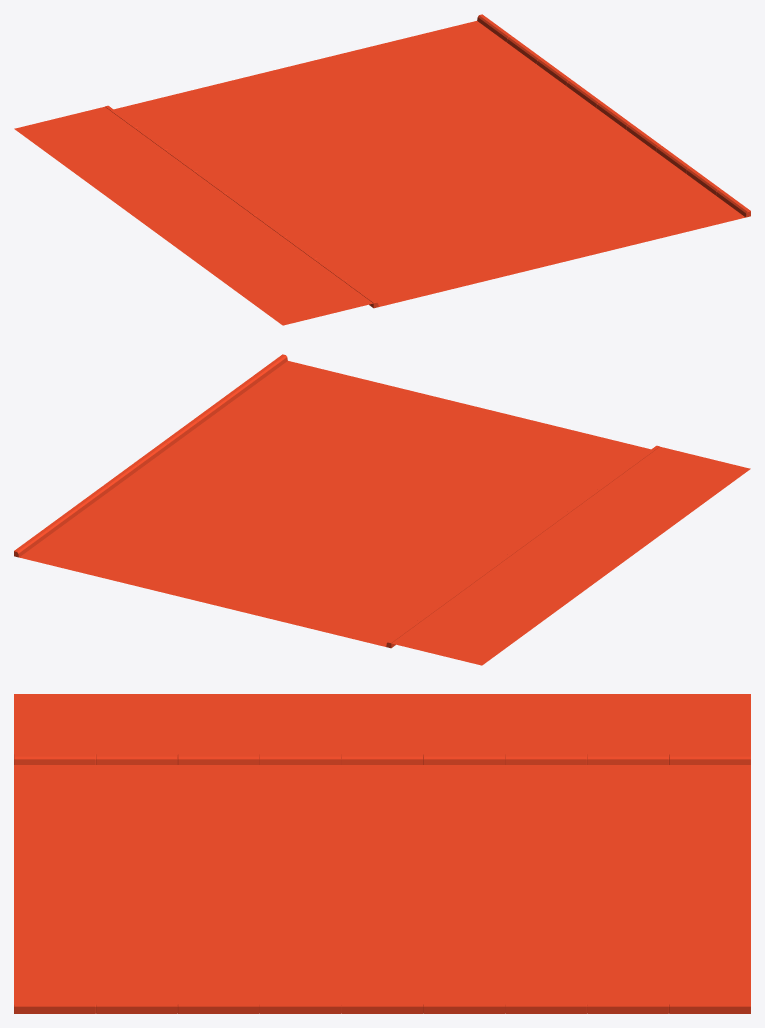
The model's file is SM_Road_Stop_10x10_City.fbx.
3 views of the same model, one above another, from view 1: azimuth 30°, elevation 25°; view 2: azimuth 150°, elevation 25°; view 3: azimuth 270°, elevation 25° (orthographic). The views are drawn at different scales.
Parts seen in each view (by area): view 1: SM_Road_Stop_10x10_City; view 2: SM_Road_Stop_10x10_City; view 3: SM_Road_Stop_10x10_City.
Boxes of the visible parts, left/top/right/bottom form: SM_Road_Stop_10x10_City: left=14, top=14, right=750, bottom=325; SM_Road_Stop_10x10_City: left=14, top=354, right=750, bottom=665; SM_Road_Stop_10x10_City: left=14, top=694, right=750, bottom=1013.
Bounding box in the file's own units: 10.05 × 0.1084 × 10.
